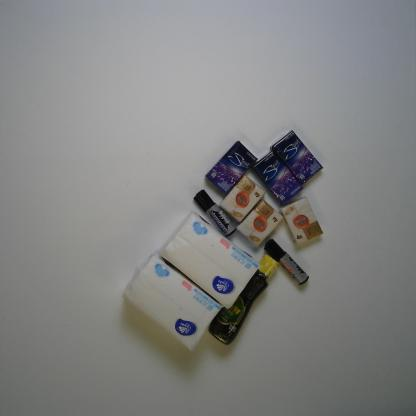Gum: (271, 129, 324, 185), (203, 139, 255, 194), (253, 151, 304, 202)
Seasoner: (206, 252, 278, 346)
Stationery: (192, 189, 237, 238), (263, 238, 309, 285)
Tissue: (159, 211, 261, 310), (123, 253, 224, 351), (218, 173, 266, 222), (236, 200, 284, 248), (280, 196, 324, 248)
